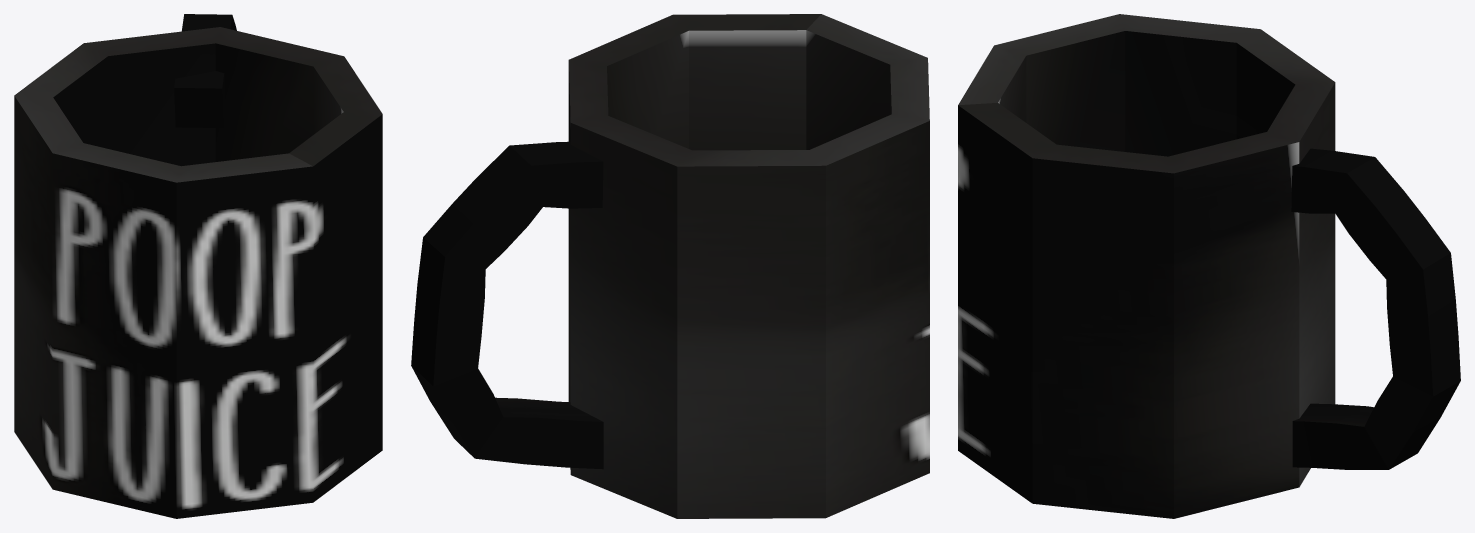
Rendered from mug.fbx.
3 views of the same model, side by side, from view 1: azimuth 30°, elevation 25°; view 2: azimuth 150°, elevation 25°; view 3: azimuth 270°, elevation 25° (orthographic). The views are drawn at different scales.
Visible parts, largest first — view 1: mug; view 2: mug; view 3: mug.
Boxes of the visible parts, x1,y1,x2,y2 form: mug: [14, 14, 382, 518]; mug: [411, 14, 929, 518]; mug: [958, 14, 1460, 518].
Bounding box in the file's own units: 914 × 858 × 1131.
1 material, 1 textured.
